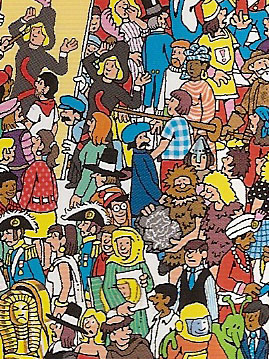waldo: (100, 189, 129, 225)
